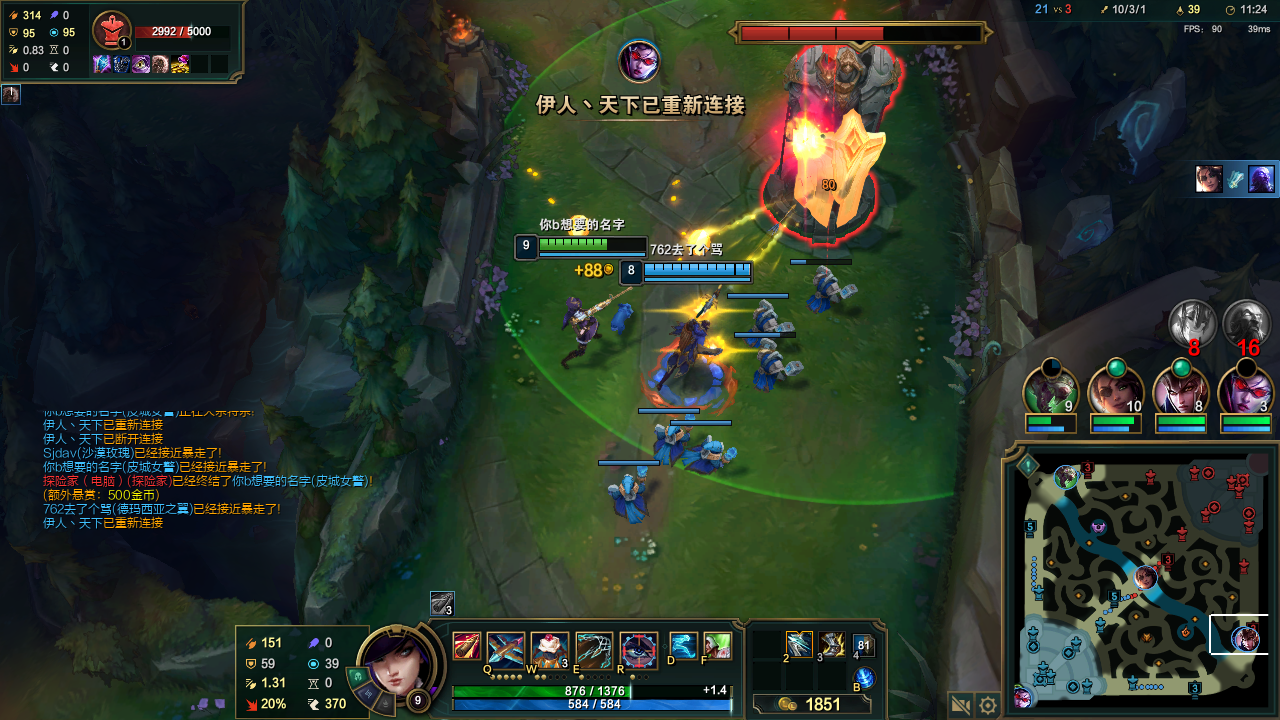DFFYT: (737, 24, 933, 253)
WFXB: (749, 340, 801, 387), (656, 417, 703, 465), (613, 467, 655, 513), (803, 271, 848, 313), (699, 437, 738, 472), (753, 307, 787, 338)
